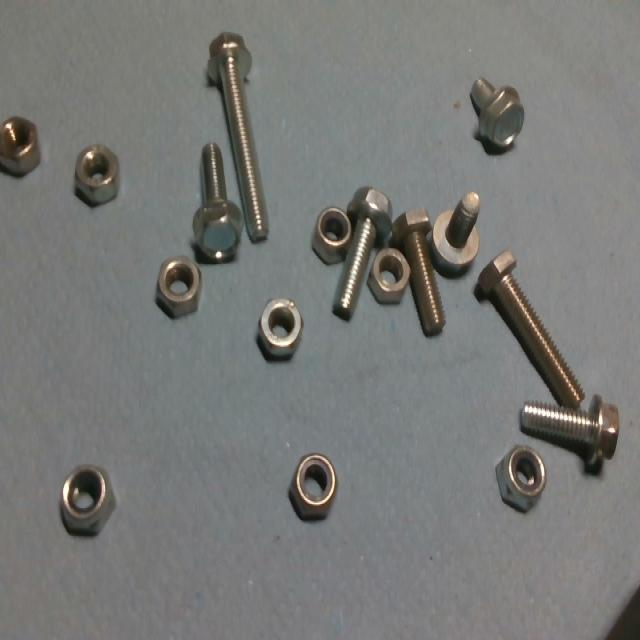Bolt: (473, 242, 594, 419), (202, 26, 278, 243), (324, 186, 397, 320), (507, 387, 626, 464), (383, 202, 447, 339), (190, 142, 250, 262), (421, 188, 490, 278), (467, 73, 531, 149)
Nut: (55, 462, 120, 544), (498, 439, 552, 510), (73, 136, 123, 212), (286, 450, 339, 519), (0, 108, 51, 179), (306, 201, 356, 273), (254, 293, 306, 362), (154, 252, 208, 318), (368, 244, 414, 305)
